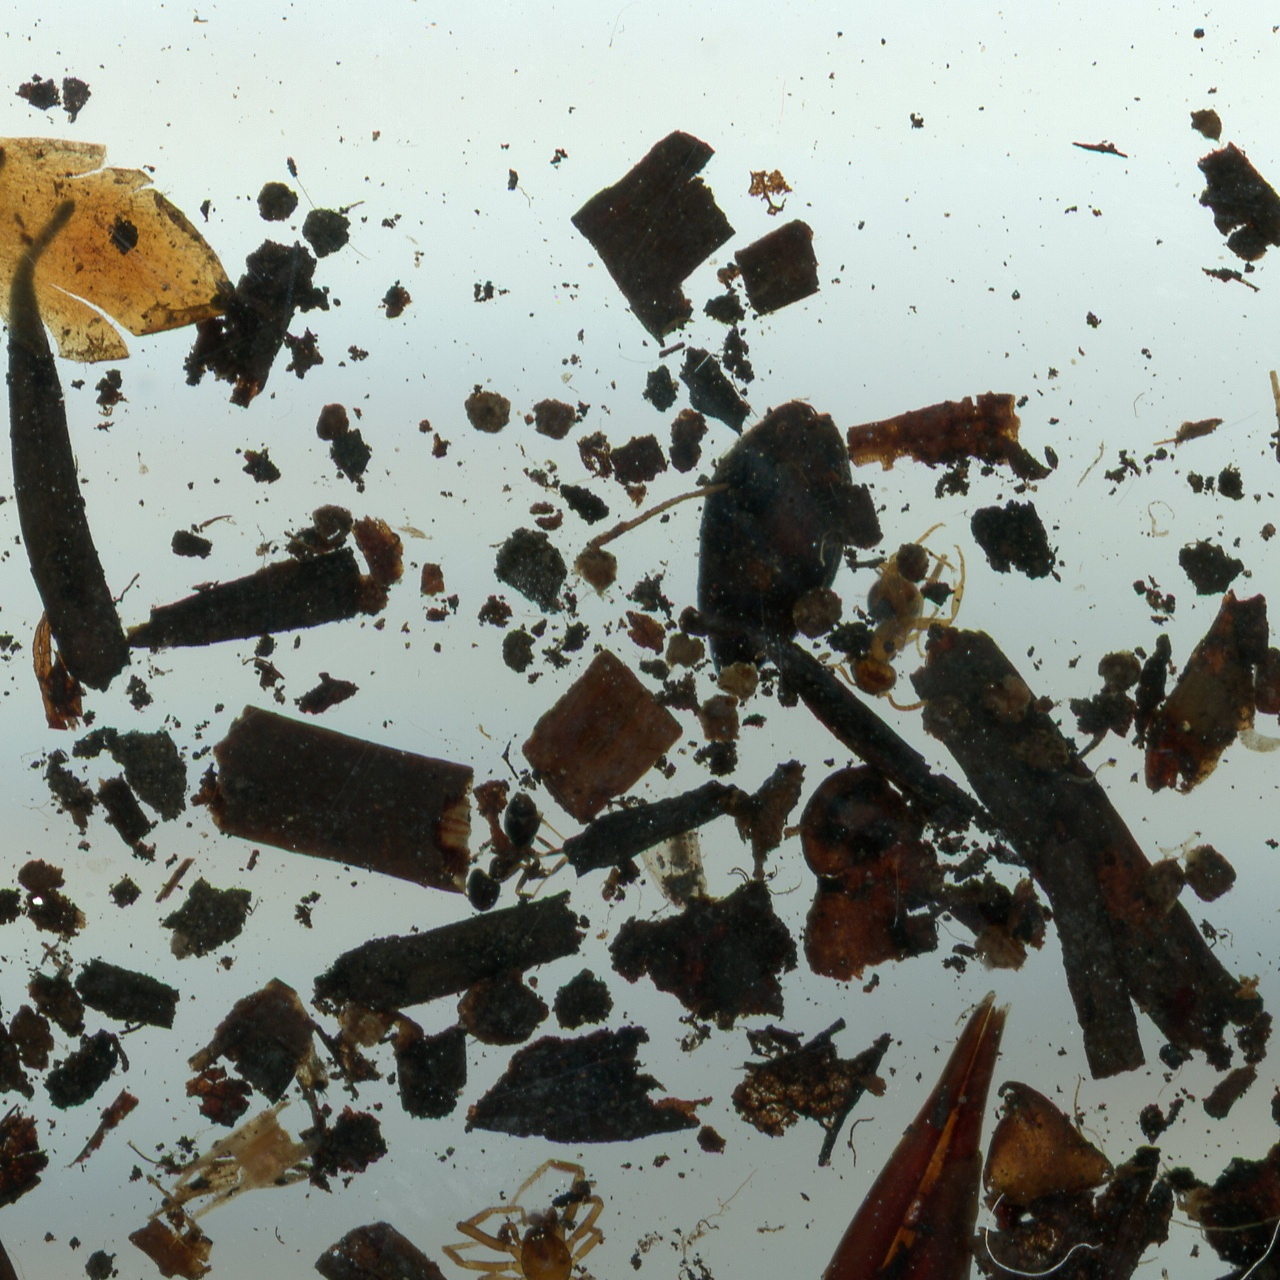arthropod: (441, 1157, 665, 1280), (832, 523, 975, 713), (464, 792, 573, 913)
